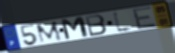5: (18, 23, 39, 47)
B: (84, 14, 109, 38)
E: (132, 5, 158, 31)
L: (112, 9, 136, 34)
M: (59, 15, 91, 42), (35, 20, 64, 45)
